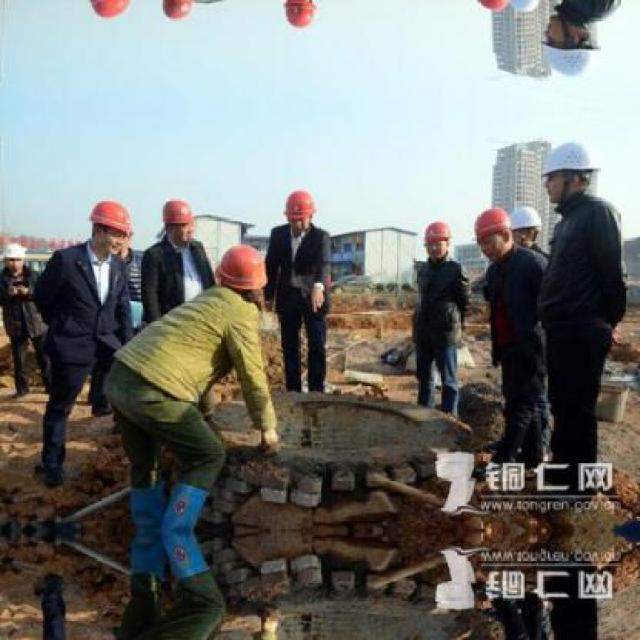helmet: (539, 134, 599, 201), (539, 14, 599, 81), (210, 242, 270, 308), (87, 194, 131, 255), (472, 204, 516, 261), (161, 196, 196, 242), (508, 204, 542, 251), (283, 186, 317, 232), (420, 217, 454, 263), (283, 0, 319, 31), (86, 0, 132, 23), (2, 235, 26, 276), (160, 0, 197, 22), (471, 0, 517, 12), (507, 0, 543, 12)
